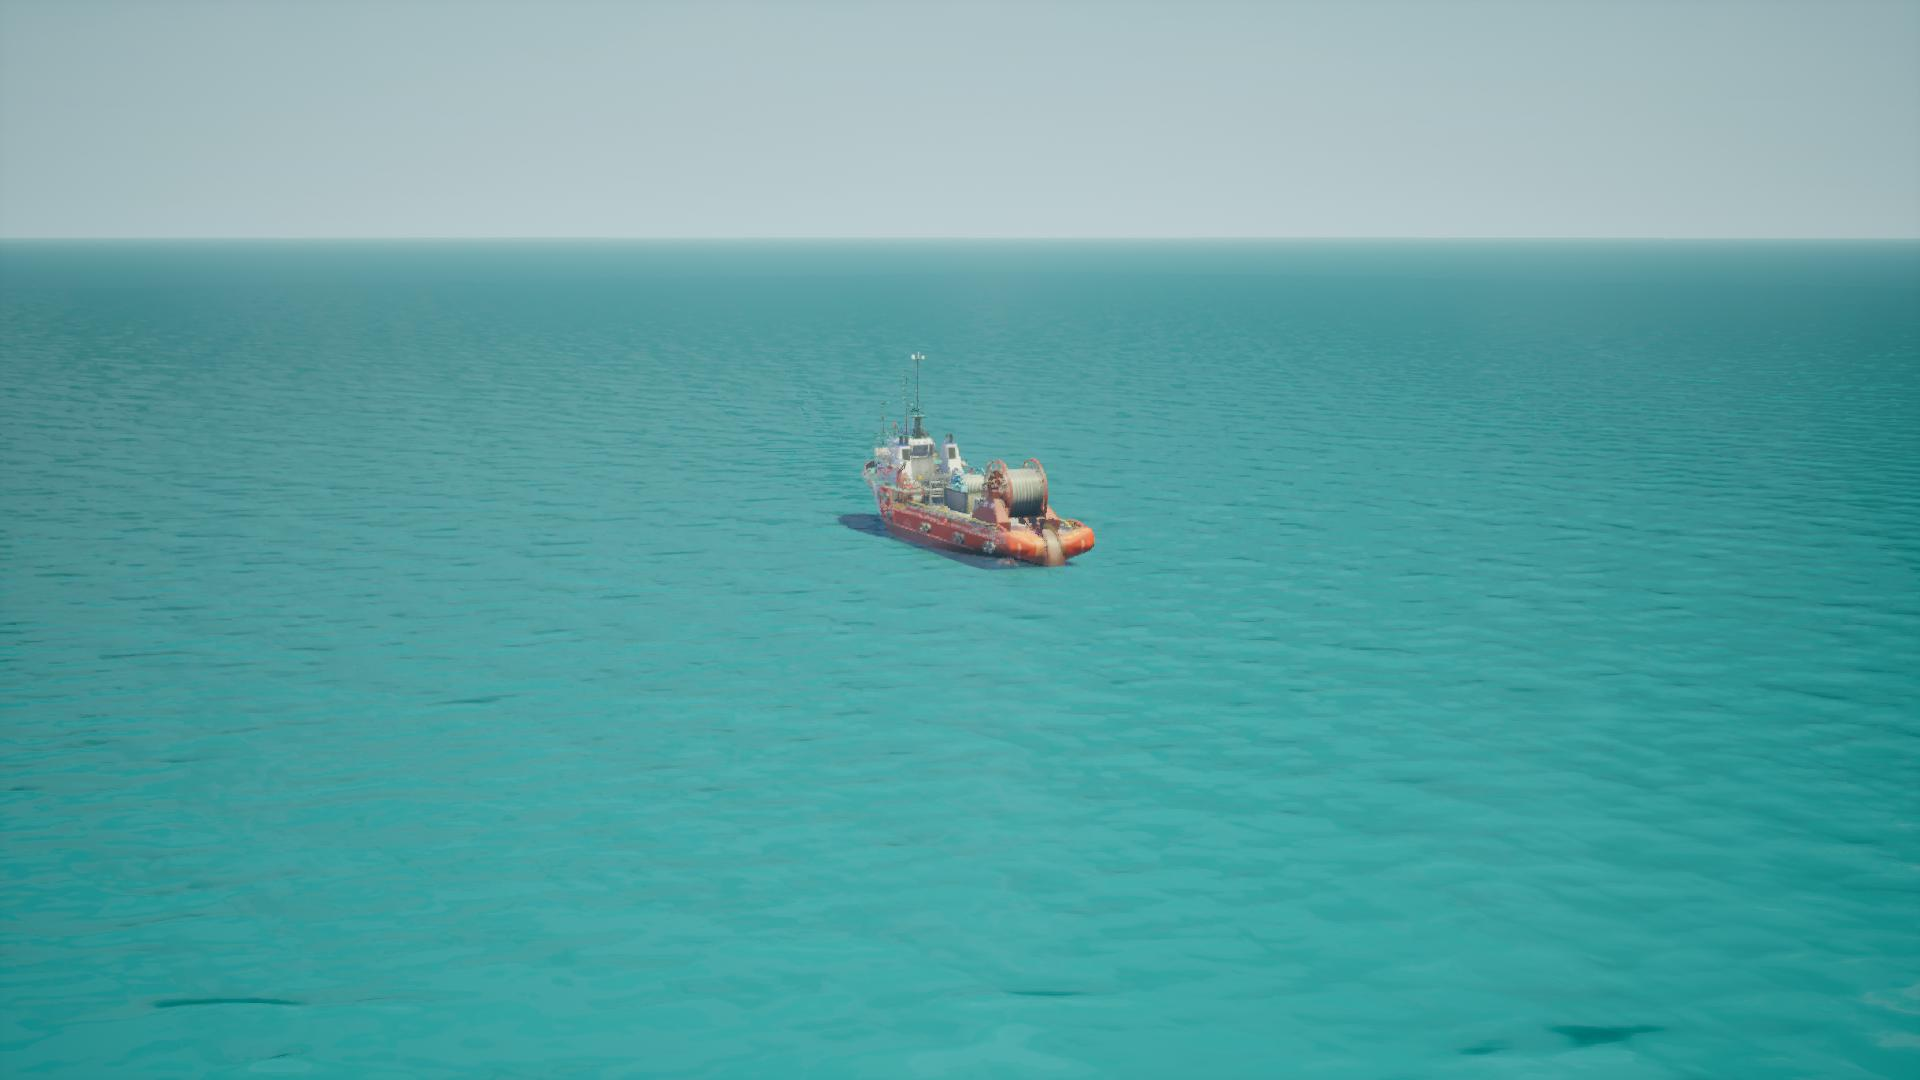Tug Boat: (845, 356, 1089, 578)
